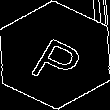P_NE: (23, 24, 87, 86)
